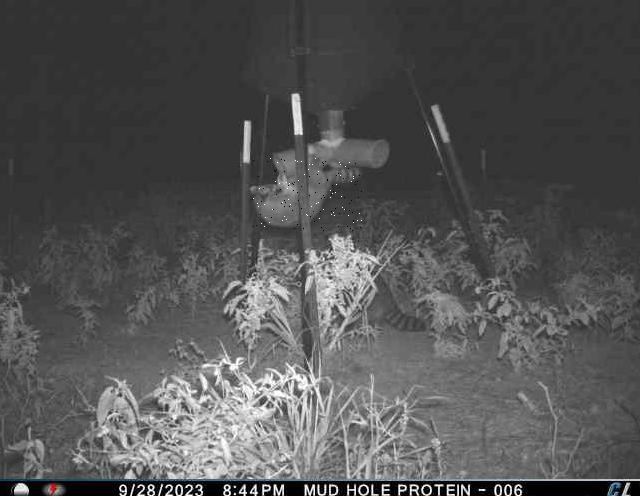Raccoon: (252, 158, 362, 231)
